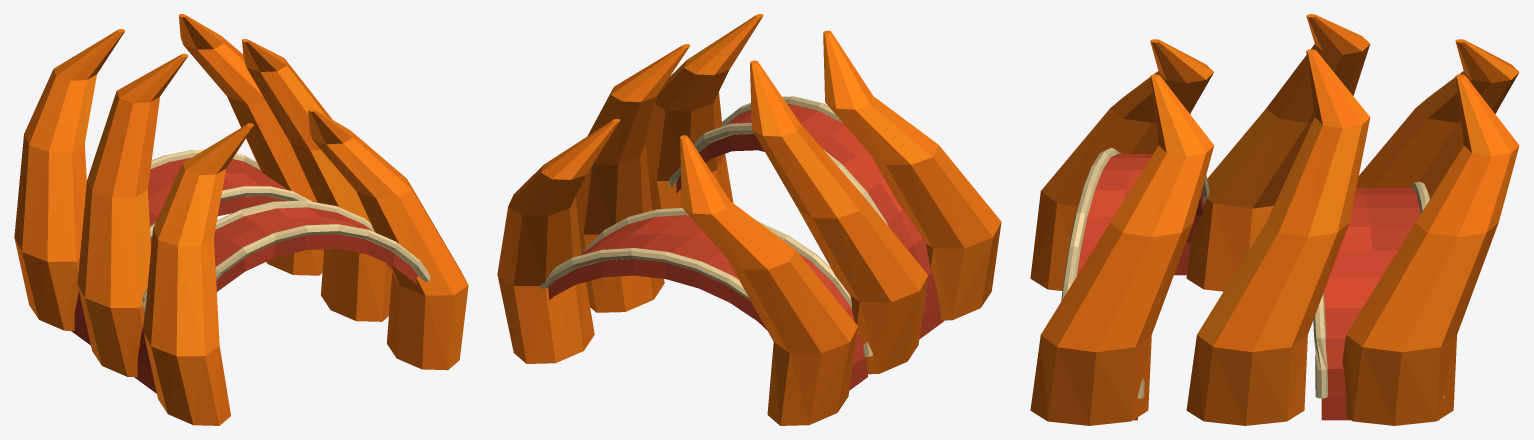
The model's file is ES_10_Inferno_Open_Flame_Cage.fbx.
3 renders of one model, left to right at view 1: azimuth 30°, elevation 25°; view 2: azimuth 150°, elevation 25°; view 3: azimuth 270°, elevation 25°, orthographic. The views are drawn at different scales.
Parts seen in each view (by area): view 1: ES_10_Inferno_Open_Flame_Cage; view 2: ES_10_Inferno_Open_Flame_Cage; view 3: ES_10_Inferno_Open_Flame_Cage.
Part boxes in pixels (bbox=[...]): ES_10_Inferno_Open_Flame_Cage: bbox=[14, 14, 468, 425]; ES_10_Inferno_Open_Flame_Cage: bbox=[497, 14, 1001, 425]; ES_10_Inferno_Open_Flame_Cage: bbox=[1030, 14, 1519, 425].
Bounding box in the file's own units: 1.22 × 1 × 1.41.
3 materials, 3 textured.
